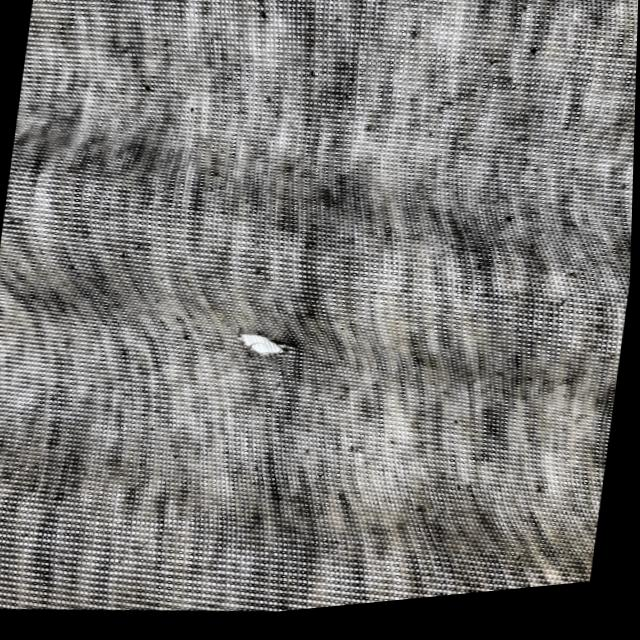Hole: (227, 328, 301, 374)
